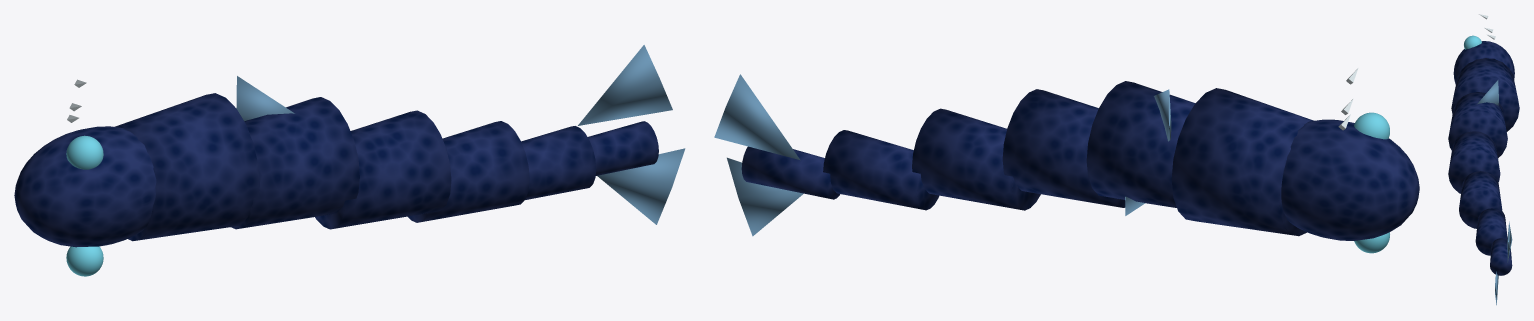
Rendered from 04_inimigo_enguia_abissal.obj.
3 views of the same model, side by side, from view 1: azimuth 30°, elevation 25°; view 2: azimuth 150°, elevation 25°; view 3: azimuth 270°, elevation 25° (orthographic). The views are drawn at different scales.
Visible parts, largest first — view 1: Cone, Sphere, Cone.001, Cone.002, Cone.003, Cone.004, Cone.013, Cone.014, Cone.005, Cone.011, Sphere.001, Sphere.002; view 2: Cone, Sphere, Cone.001, Cone.002, Cone.003, Cone.004, Cone.005, Cone.013, Cone.014, Sphere.001, Cone.011; view 3: Cone, Cone.001, Cone.002, Cone.003, Cone.004, Sphere, Cone.005, Cone.011, Sphere.001, Cone.013, Cone.014.
Part boxes in pixels (box(x1,y1,x2,y2)): Cone: box(114, 93, 259, 241); Sphere: box(14, 126, 156, 247); Cone.001: box(231, 97, 359, 229); Cone.002: box(315, 110, 451, 229); Cone.003: box(408, 121, 529, 222); Cone.004: box(521, 126, 596, 199); Cone.013: box(578, 45, 672, 125); Cone.014: box(597, 148, 685, 224); Cone.005: box(588, 121, 658, 175); Cone.011: box(236, 76, 294, 121); Sphere.001: box(66, 135, 103, 169); Sphere.002: box(66, 246, 103, 276); Cone: box(1171, 88, 1314, 236); Sphere: box(1281, 119, 1419, 240); Cone.001: box(1086, 81, 1195, 207); Cone.002: box(1002, 89, 1125, 207); Cone.003: box(912, 108, 1040, 210); Cone.004: box(823, 130, 939, 210); Cone.005: box(741, 146, 840, 199); Cone.013: box(714, 74, 800, 160); Cone.014: box(727, 157, 803, 236); Sphere.001: box(1354, 112, 1389, 139); Cone.011: box(1154, 89, 1171, 141); Cone: box(1451, 58, 1519, 131); Cone.001: box(1448, 92, 1507, 157); Cone.002: box(1448, 131, 1500, 193); Cone.003: box(1459, 171, 1502, 228); Cone.004: box(1475, 208, 1507, 255); Sphere: box(1453, 41, 1514, 84); Cone.005: box(1490, 238, 1512, 275); Cone.011: box(1477, 80, 1498, 105); Sphere.001: box(1464, 35, 1481, 49); Cone.013: box(1507, 221, 1512, 262); Cone.014: box(1495, 271, 1498, 305).
Size of the model in its own units: 6.28 by 2.66 by 1.15.
21 materials, 21 textured.
